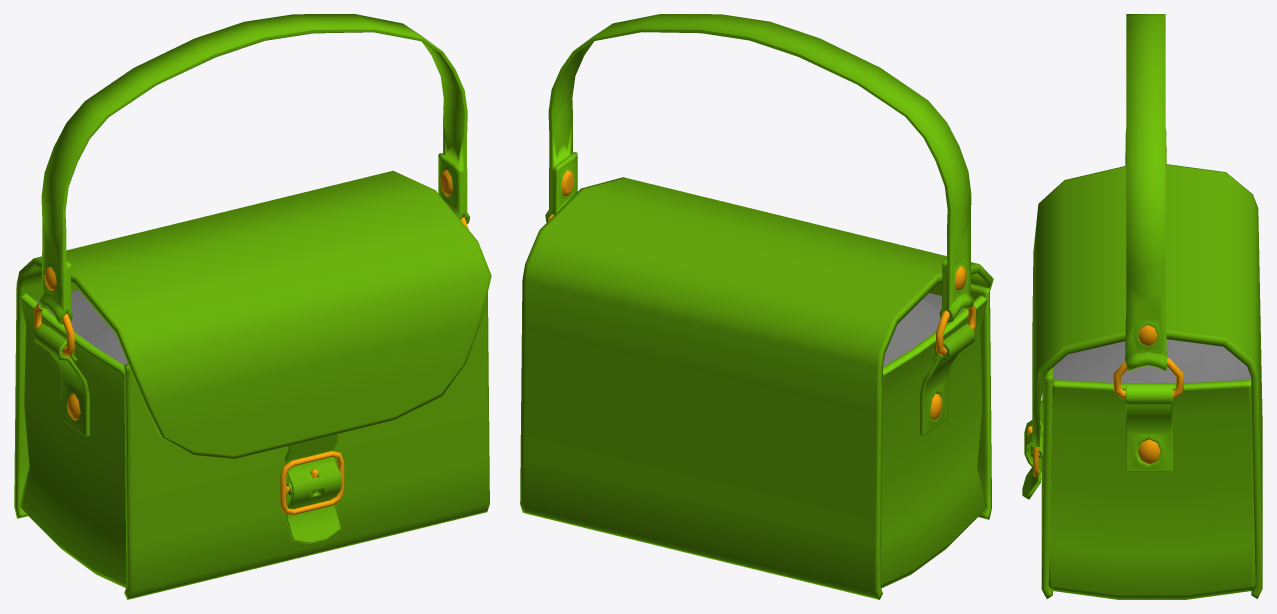
The model's file is bag3.fbx.
3 renders of one model, left to right at view 1: azimuth 30°, elevation 25°; view 2: azimuth 150°, elevation 25°; view 3: azimuth 270°, elevation 25°, orthographic. The views are drawn at different scales.
Visible parts, largest first — view 1: bag3; view 2: bag3; view 3: bag3.
Part boxes in pixels (<box>): bag3: <box>14,14,491,599</box>; bag3: <box>520,14,993,599</box>; bag3: <box>1022,14,1262,599</box>.
Size of the model in its own units: 25.51 by 29.13 by 13.51.
1 material, 1 textured.
